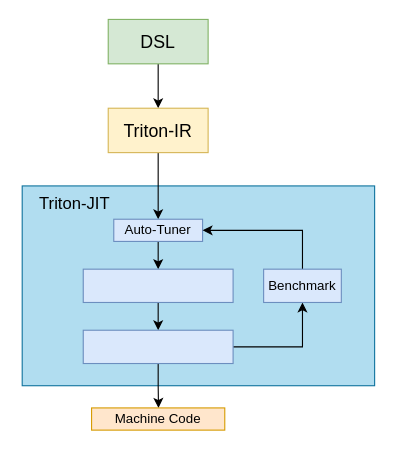
Some shapes in this 394 by 450 pixel diagram are drawn without their labels. The box of each missing label's shape, as (x1, y1, x2, y2) in pixels:
Machine-dependent Passes: (82, 329, 233, 364)
Machine-independent Passes: (82, 268, 233, 302)
